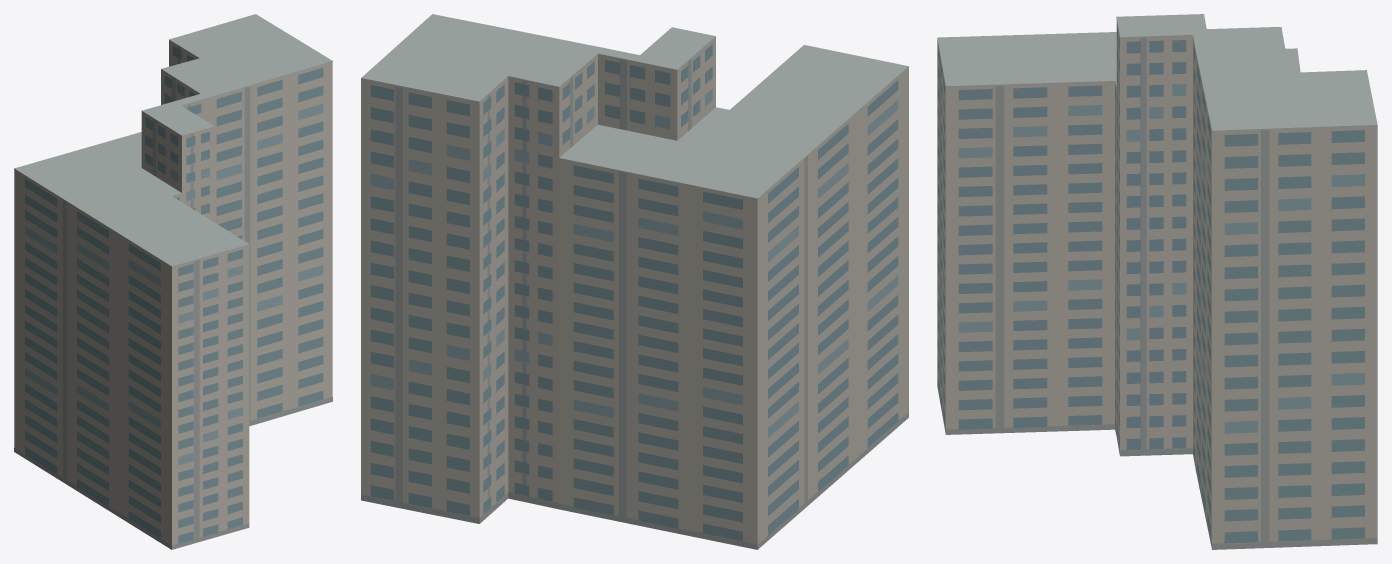
Rendered from residential-a5409836-fa01-4671-bf25-a8fb08b65ac0.glb.
3 views of the same model, side by side, from view 1: azimuth 30°, elevation 25°; view 2: azimuth 150°, elevation 25°; view 3: azimuth 270°, elevation 25° (orthographic). The views are drawn at different scales.
Parts seen in each view (by area): view 1: residential-a5409836-fa01-4671-bf25-a8fb08b65ac0.tmp; view 2: residential-a5409836-fa01-4671-bf25-a8fb08b65ac0.tmp; view 3: residential-a5409836-fa01-4671-bf25-a8fb08b65ac0.tmp.
Boxes of the visible parts, x1,y1,x2,y2 form: residential-a5409836-fa01-4671-bf25-a8fb08b65ac0.tmp: (14, 14, 332, 549); residential-a5409836-fa01-4671-bf25-a8fb08b65ac0.tmp: (361, 14, 908, 549); residential-a5409836-fa01-4671-bf25-a8fb08b65ac0.tmp: (937, 14, 1377, 549).
Bounding box in the file's own units: 58.87 × 66 × 62.82.
